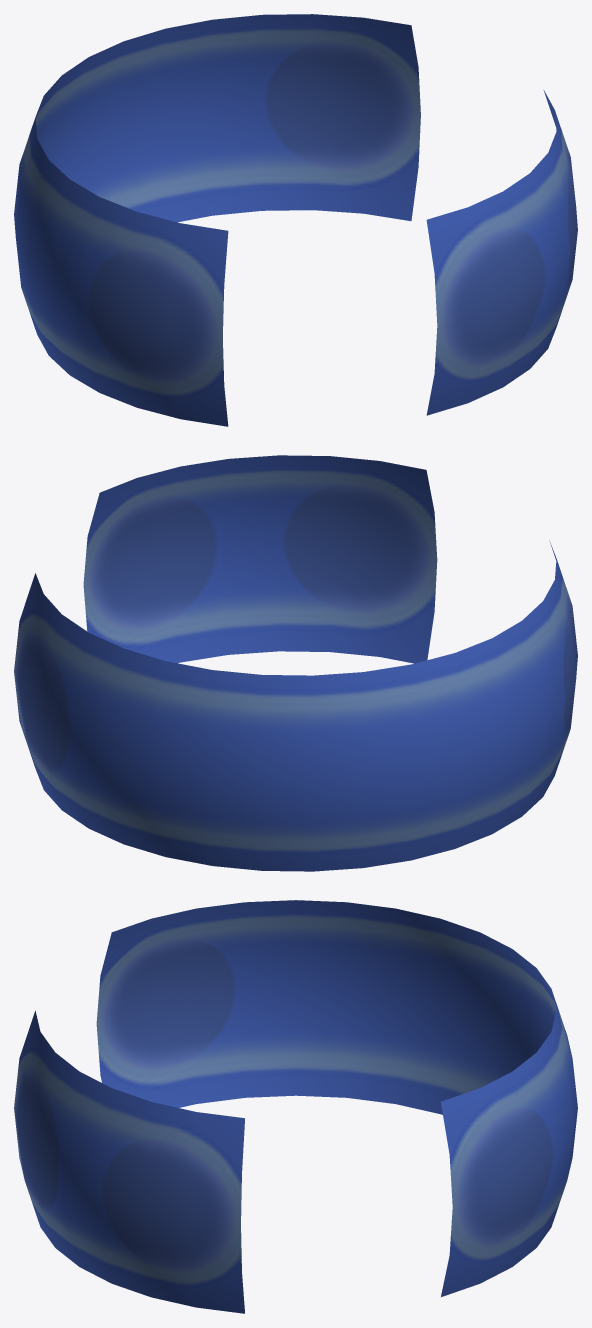
Rendered from geo_sphere_mid.fbx.
The picture shows the model from 3 angles, top to bottom: view 1: azimuth 30°, elevation 25°; view 2: azimuth 150°, elevation 25°; view 3: azimuth 270°, elevation 25°; orthographic projection.
Visible parts, largest first — view 1: geo_sphere_mid; view 2: geo_sphere_mid; view 3: geo_sphere_mid.
Boxes of the visible parts, box(x1,y1,x2,y2) form: geo_sphere_mid: box(14, 14, 577, 426); geo_sphere_mid: box(14, 455, 577, 871); geo_sphere_mid: box(14, 900, 577, 1313).
Size of the model in its own units: 792 by 800 by 306.
1 material, 1 textured.
